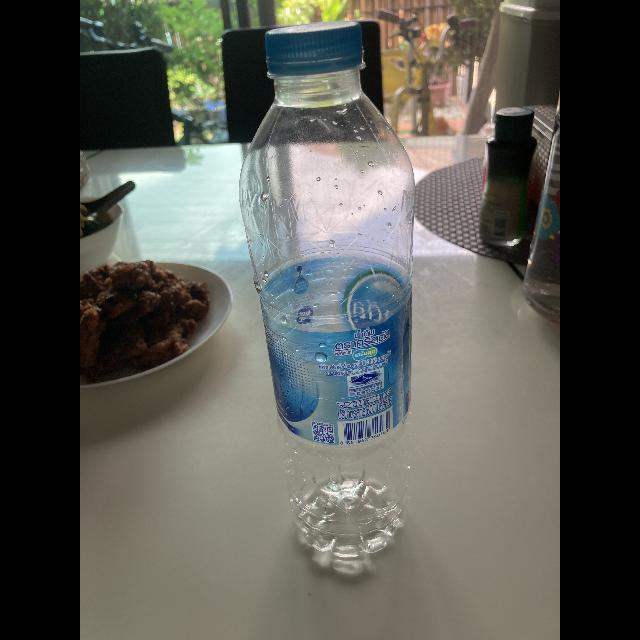plastic_bottle: (235, 20, 418, 572)
